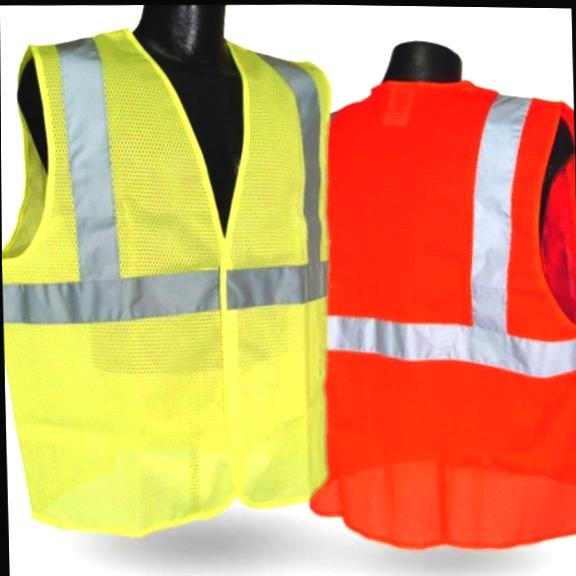safety_vest: (0, 13, 344, 540), (295, 72, 576, 552)
